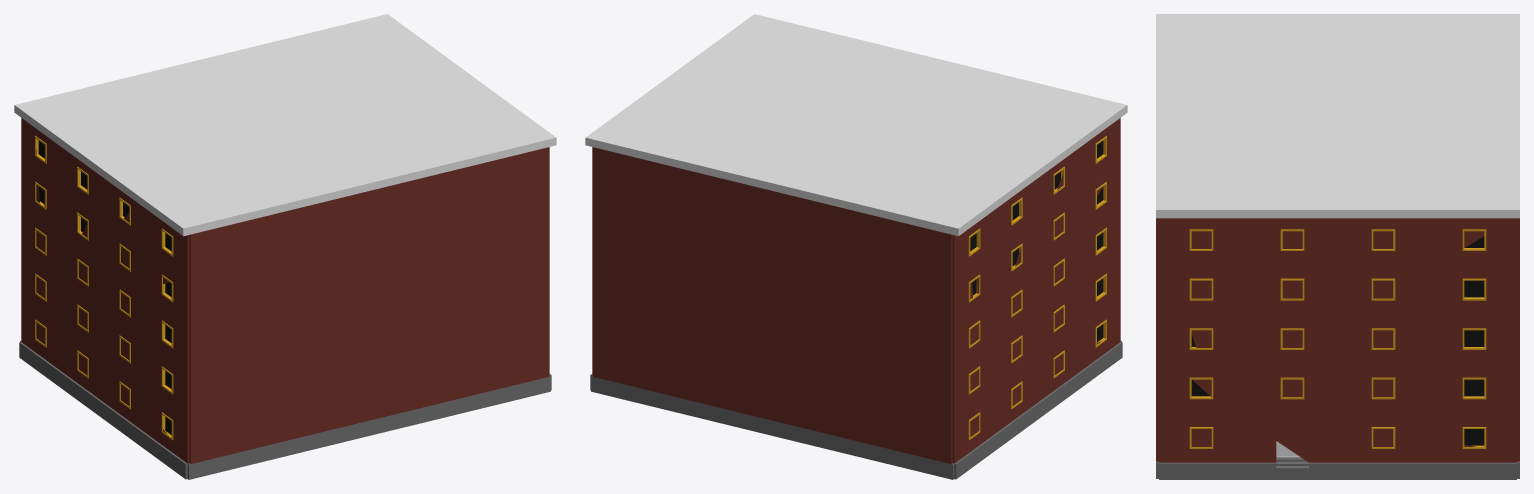
3 renders of one model, left to right at view 1: azimuth 30°, elevation 25°; view 2: azimuth 150°, elevation 25°; view 3: azimuth 270°, elevation 25°, orthographic. The views are drawn at different scales.
Parts seen in each view (by area): view 1: BR20_F05_05; view 2: BR20_F05_05; view 3: BR20_F05_05.
Part boxes in pixels (box(x1,y1,x2,y2)): BR20_F05_05: box(14, 14, 556, 479); BR20_F05_05: box(585, 14, 1127, 479); BR20_F05_05: box(1156, 14, 1519, 479).
Bounding box in the file's own units: 2550 × 1650 × 2000.
